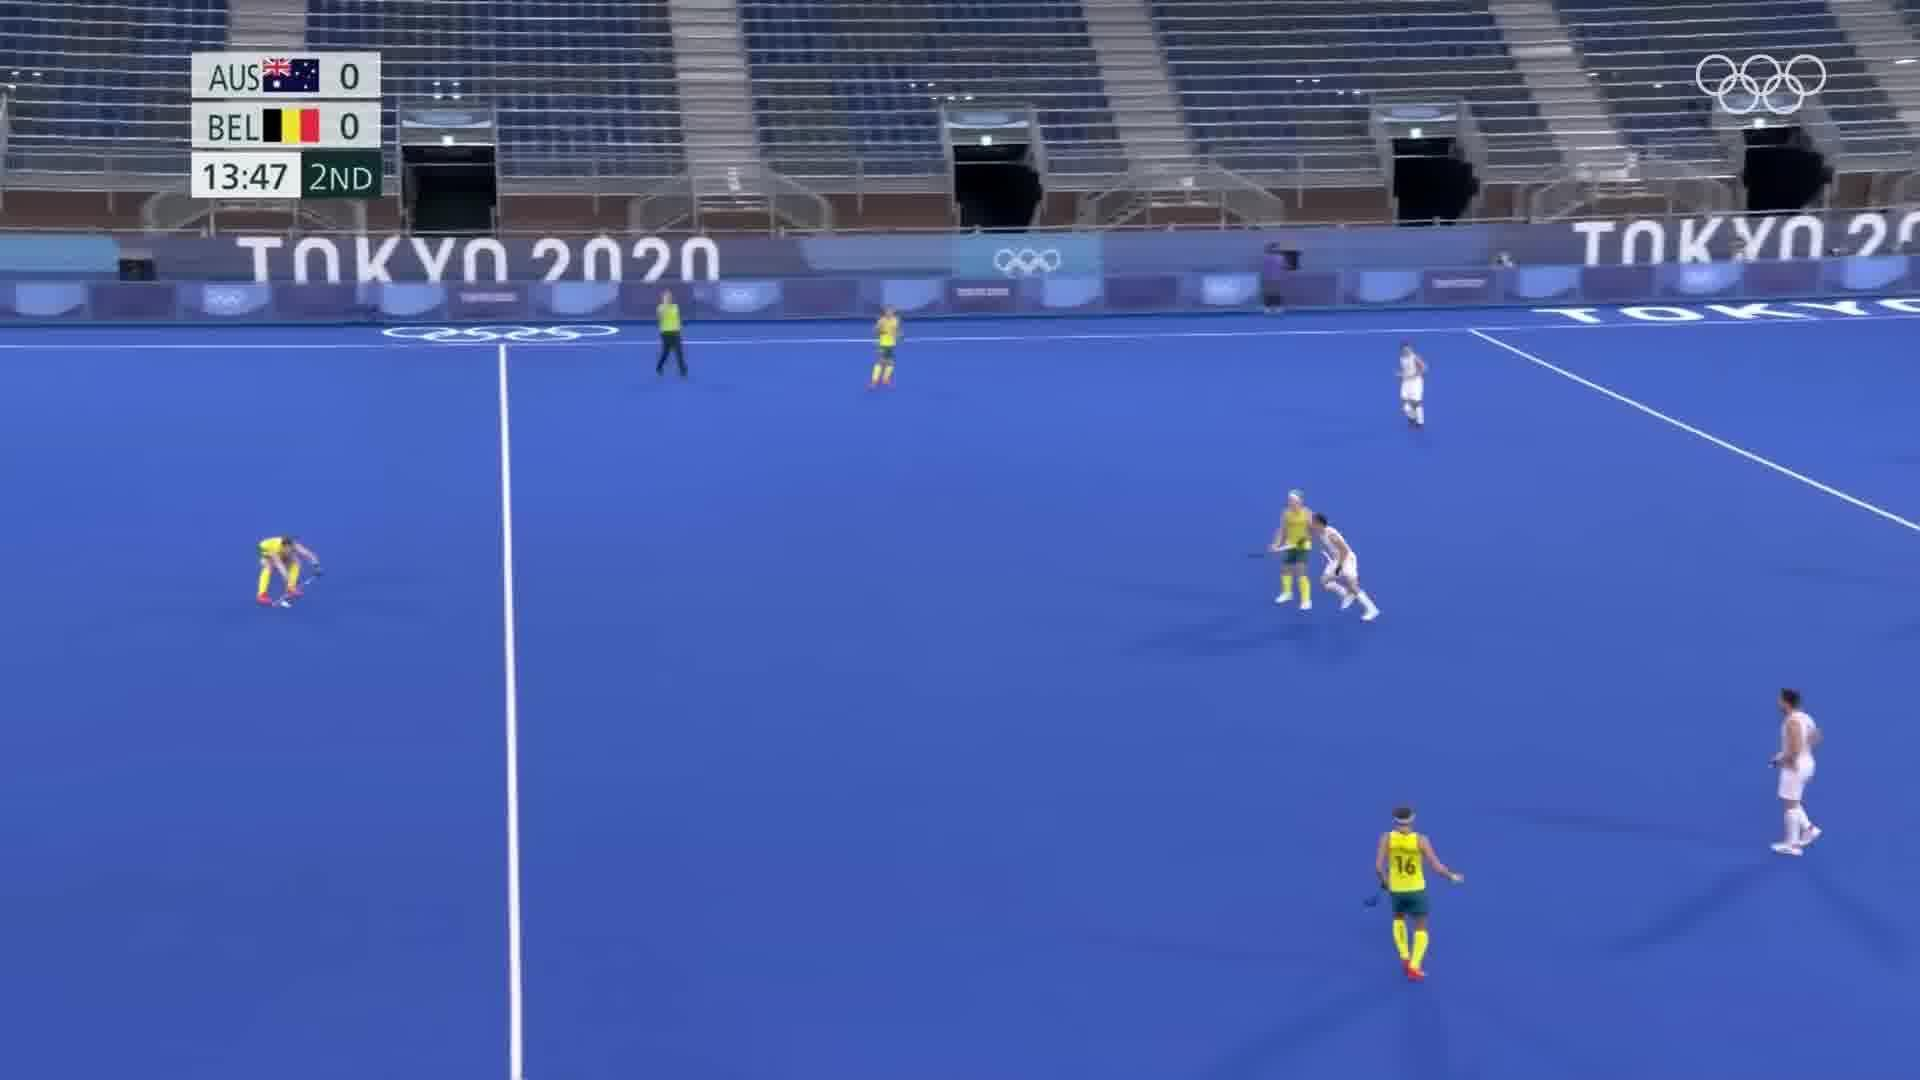ball: (276, 599, 299, 618)
